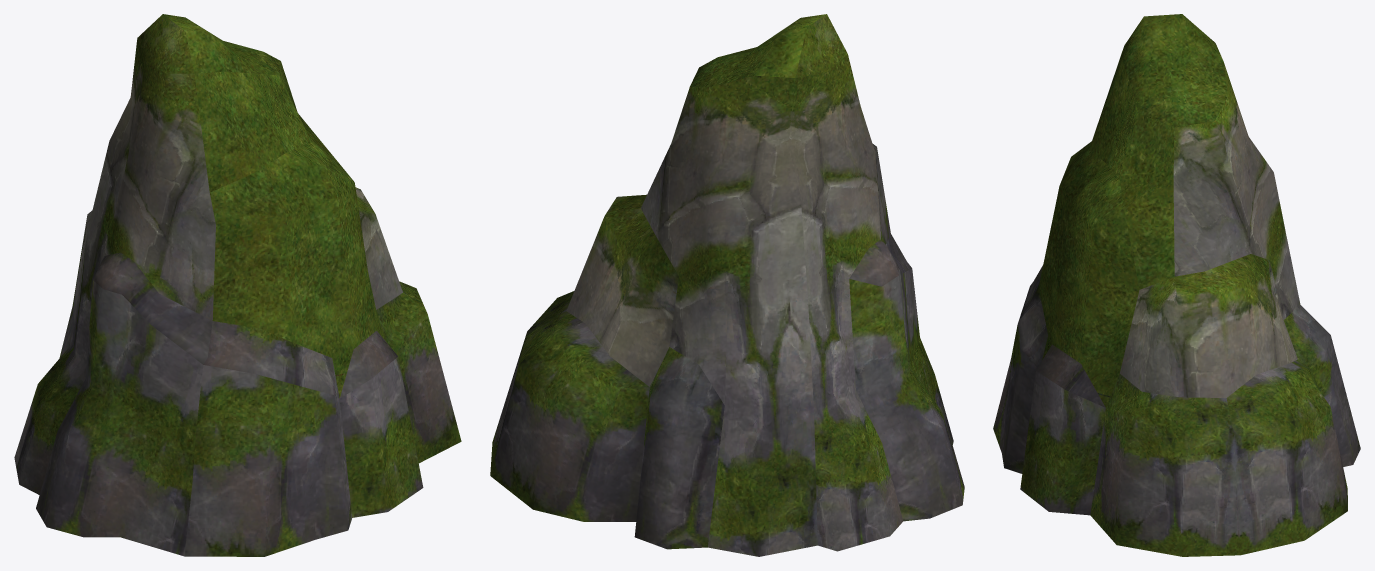
Rendered from Yland1_st_02 Yland1.FBX.
3 renders of one model, left to right at view 1: azimuth 30°, elevation 25°; view 2: azimuth 150°, elevation 25°; view 3: azimuth 270°, elevation 25°, orthographic. The views are drawn at different scales.
Parts seen in each view (by area): view 1: Yland1_st_02 Yland1; view 2: Yland1_st_02 Yland1; view 3: Yland1_st_02 Yland1.
Boxes of the visible parts, bbox=[...] form: Yland1_st_02 Yland1: bbox=[14, 14, 461, 556]; Yland1_st_02 Yland1: bbox=[490, 14, 964, 556]; Yland1_st_02 Yland1: bbox=[993, 14, 1360, 556].
Bounding box in the file's own units: 36.65 × 38.21 × 30.57.
